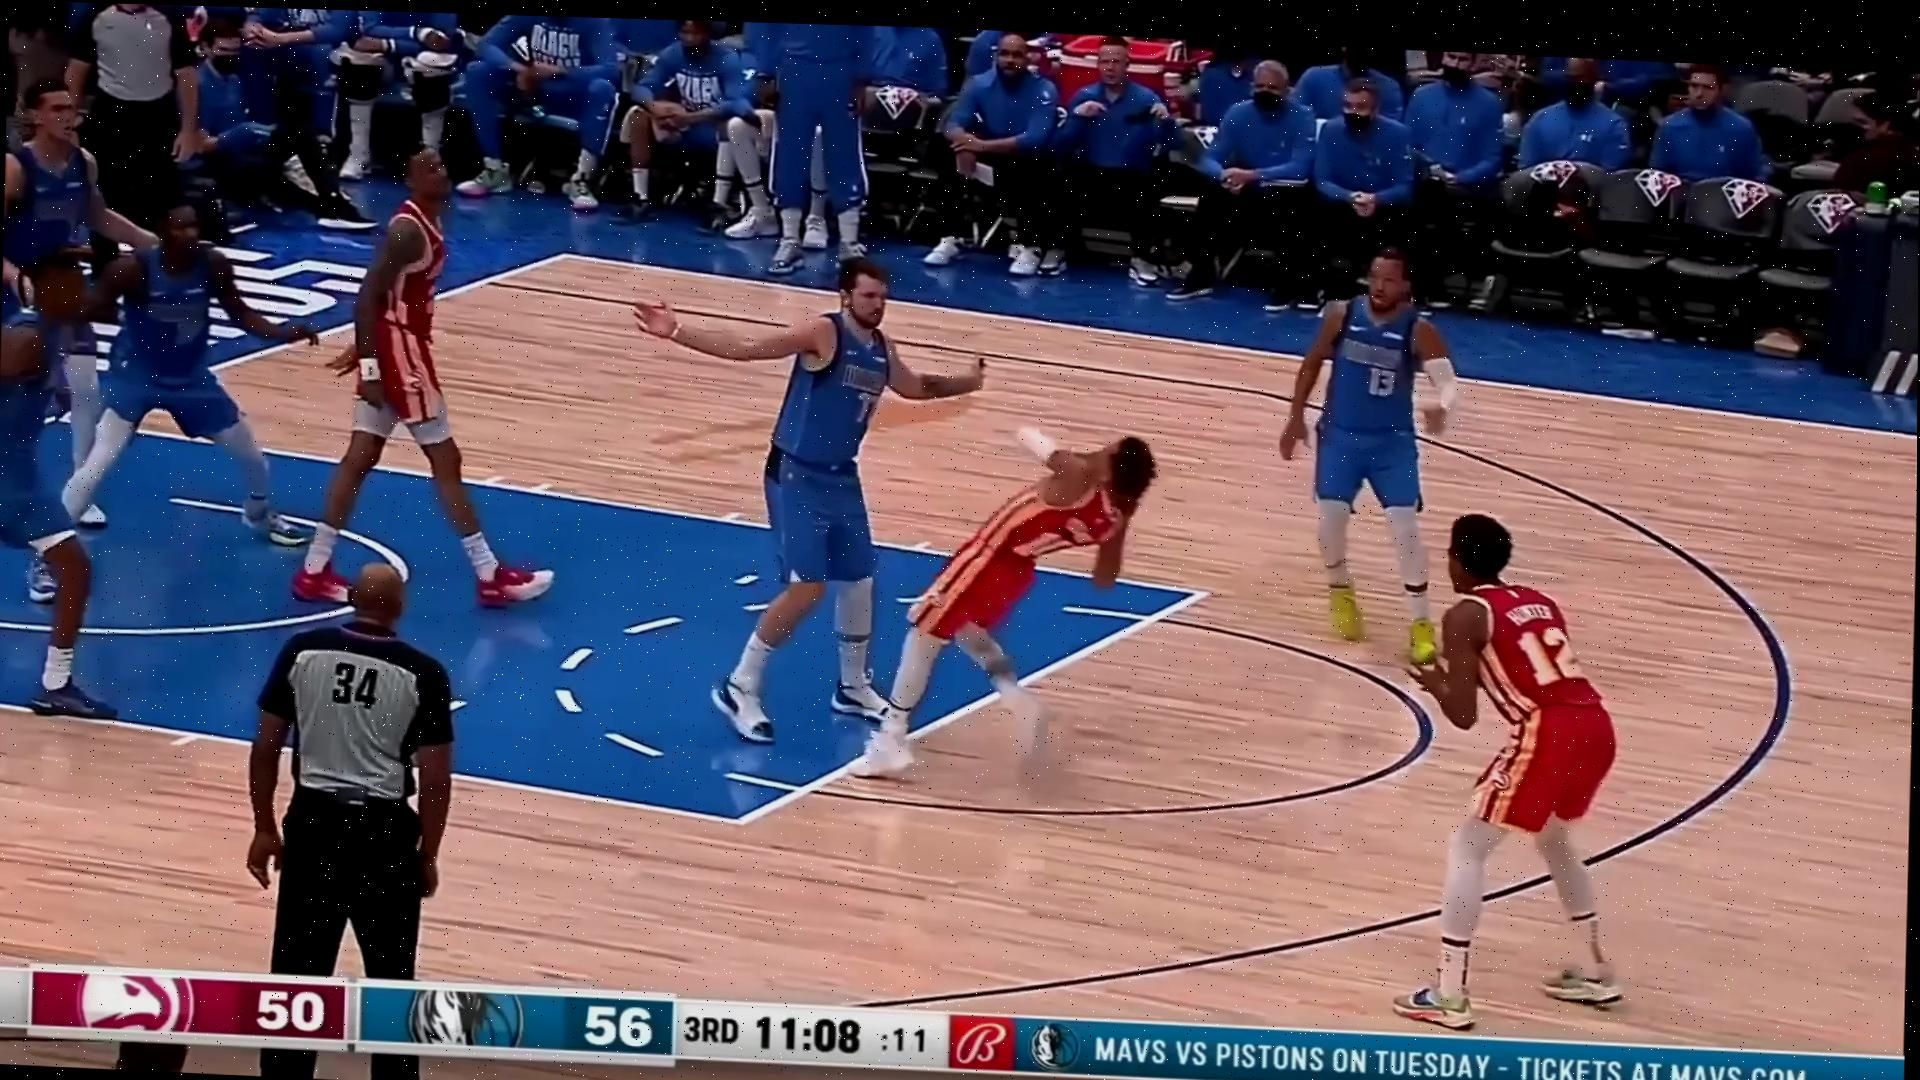no_foul: (669, 247, 1166, 786)
